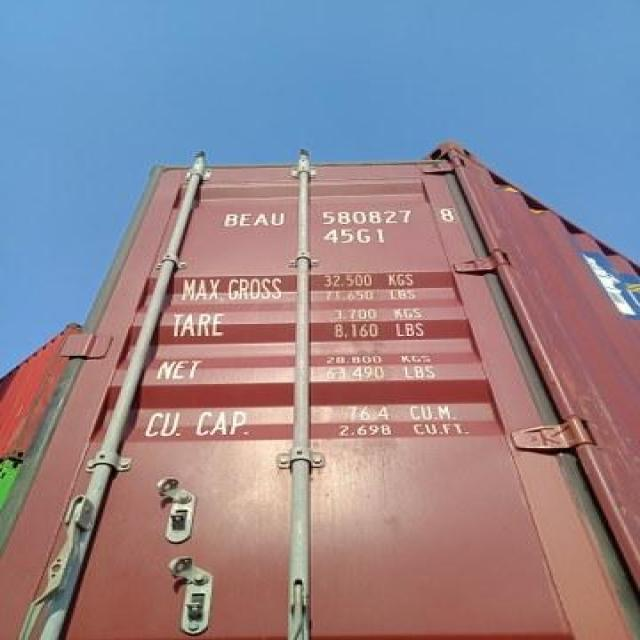ISO: (323, 226, 392, 249)
container_number: (220, 198, 460, 236)
